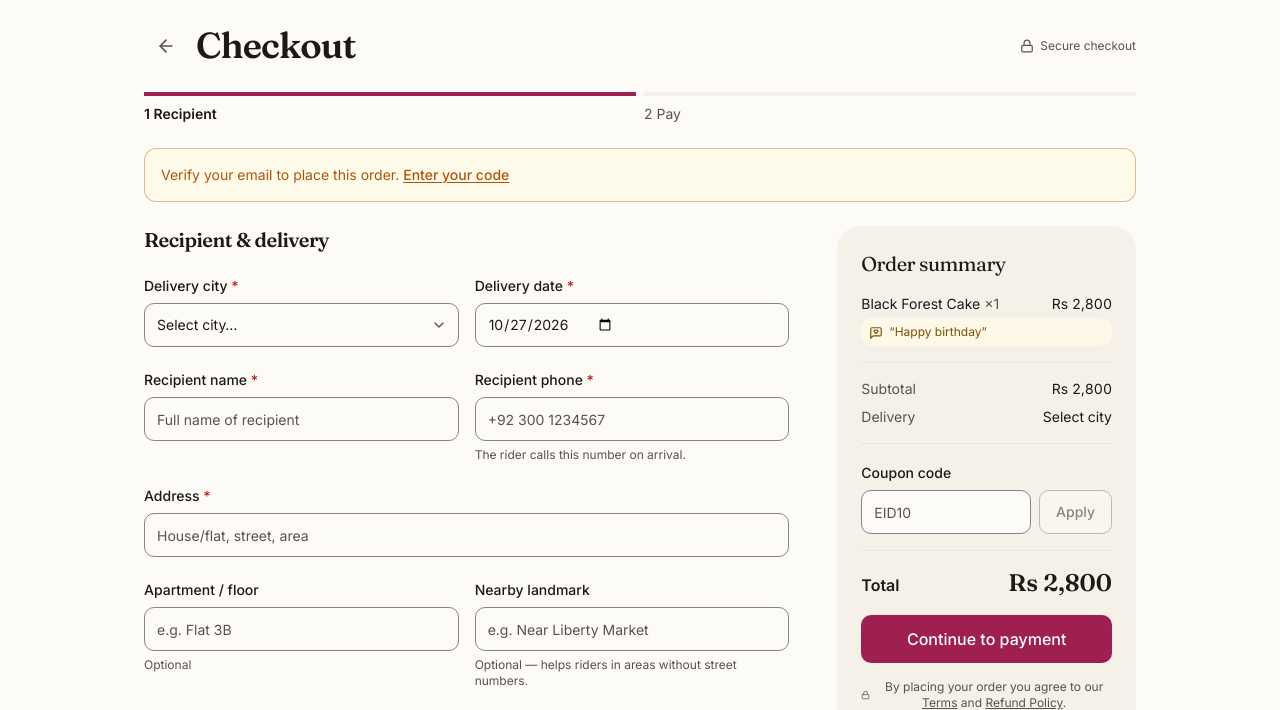
CheckoutPage › previews a valid coupon's discount from the quote
This screenshot has width=1280, height=710.
Select "Lahore" in the dropdown labelled "Delivery city *" at (301, 325), box [144,303,459,347]
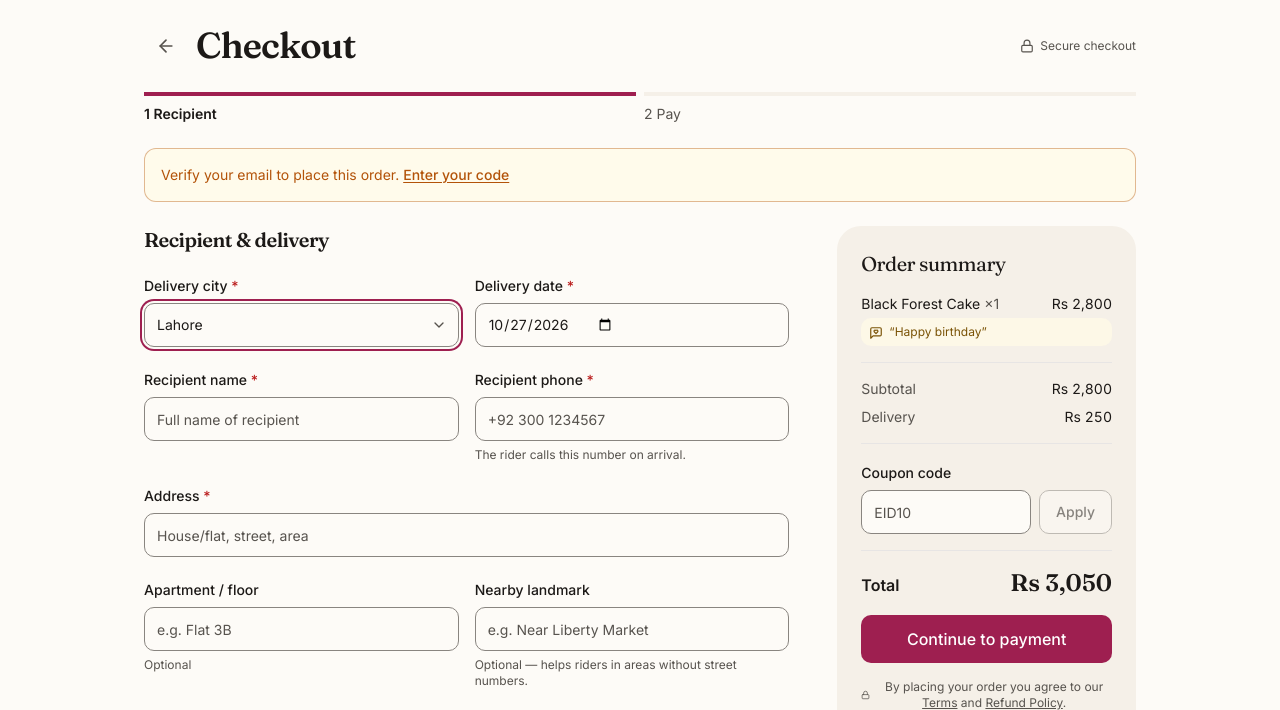
Type "eid10" into the field labelled "Coupon code" at (946, 512), box [861,490,1031,534]
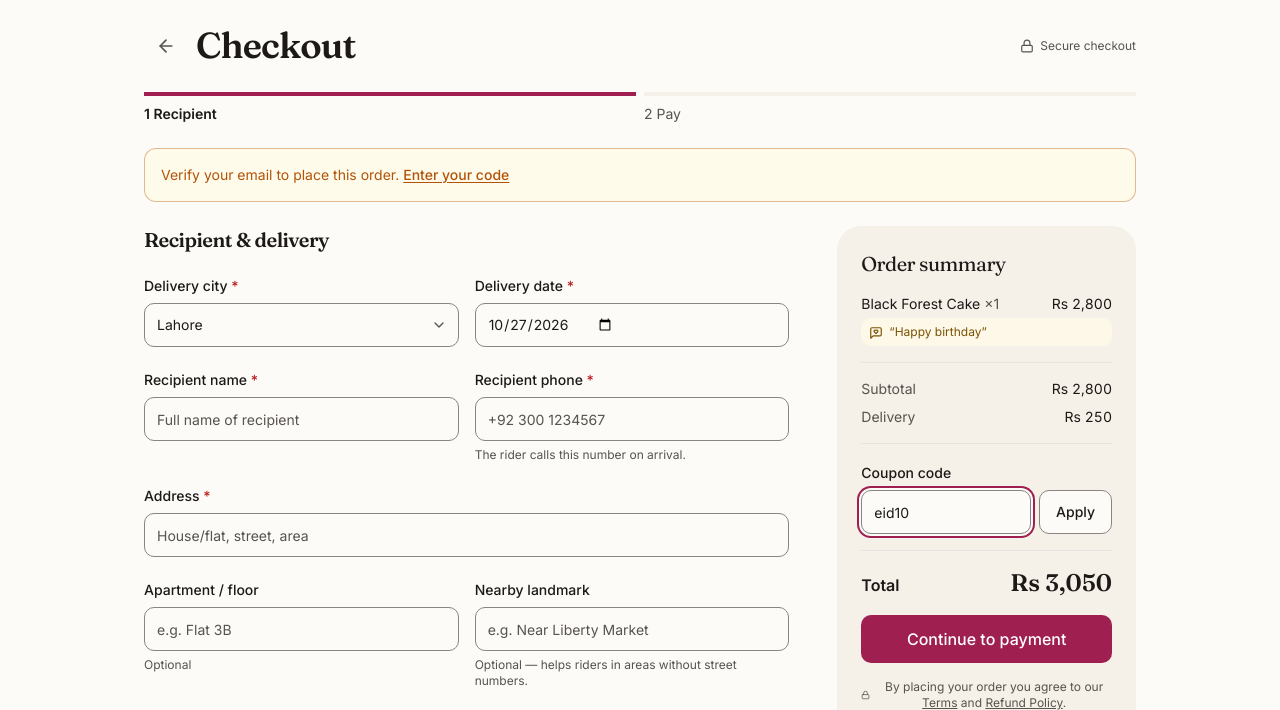
Click the button "Apply" at (1076, 512), box [1039,490,1112,534]
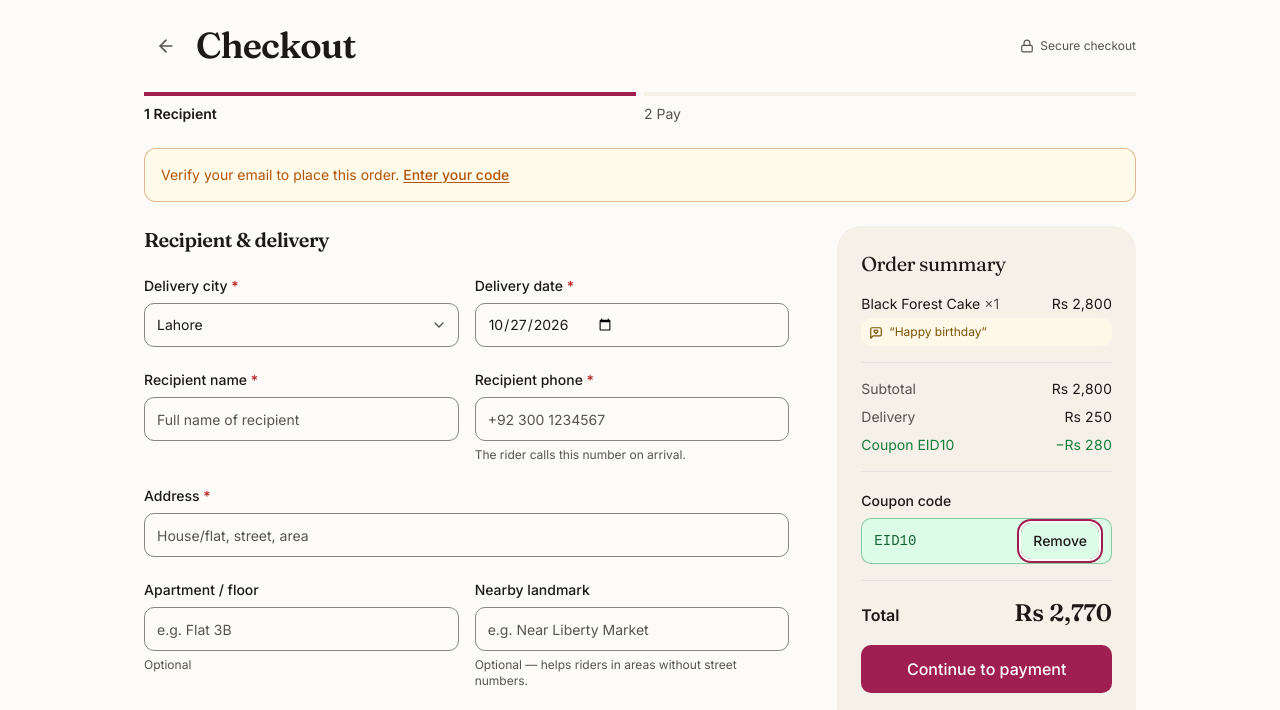
Result: the text "Coupon EID10" is shown at [861,435,954,455]
Result: the text "−Rs 280" is shown at [1056,435,1112,455]
